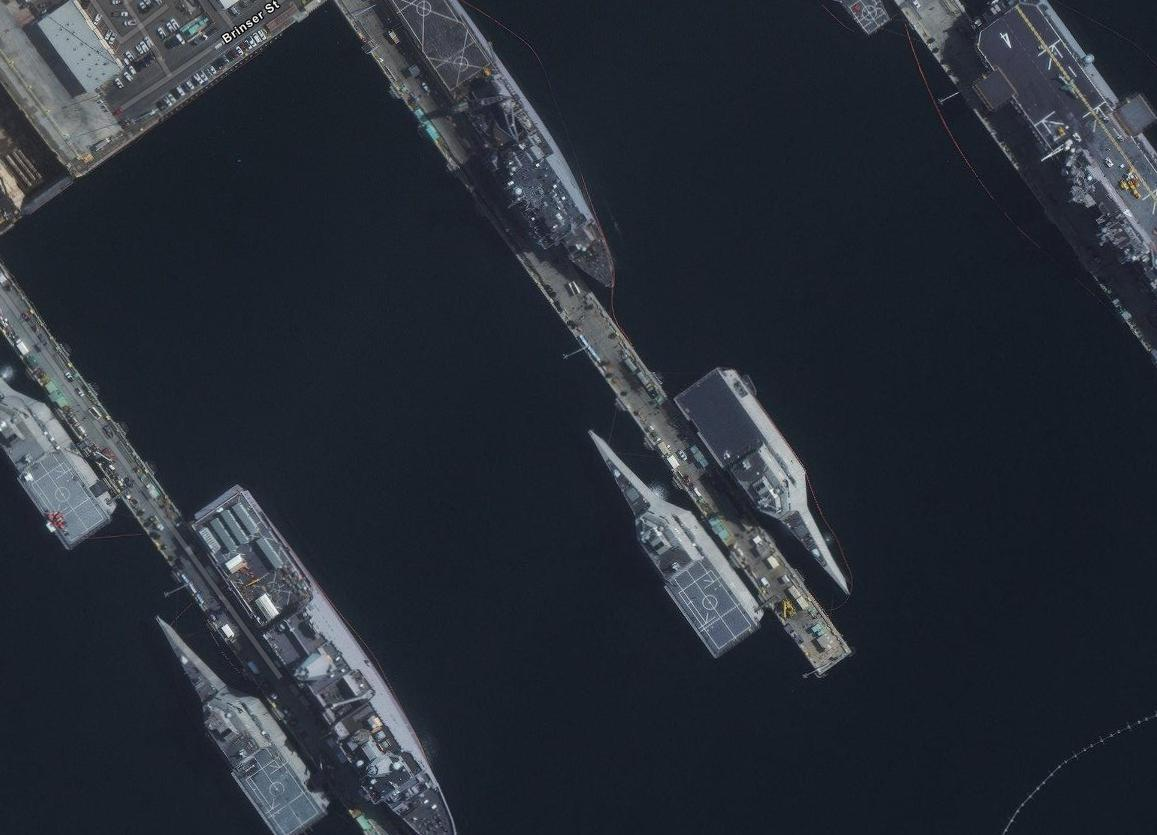littoral combat ship: (663, 355, 869, 609), (579, 420, 768, 666)
